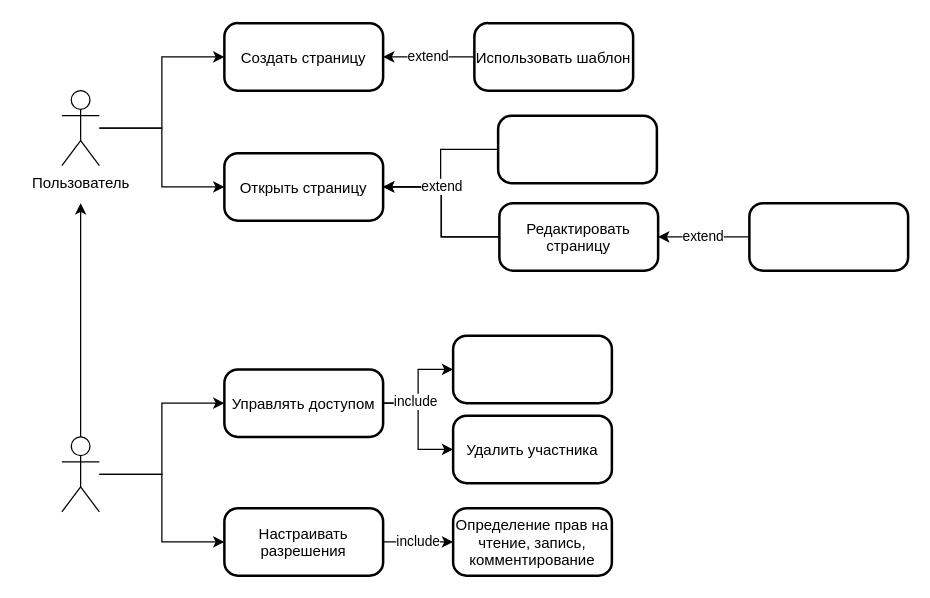
This 930x598 diagram has some shape labels left out. The centre of each missing label's shape, as x and y in pixels:
"Администратор рабочей области" belongs at point 80,474.
"Добавить участника" belongs at point 531,369.
"Комментировать страницу" belongs at point 577,149.
"Совместное редактирование" belongs at point 828,236.
